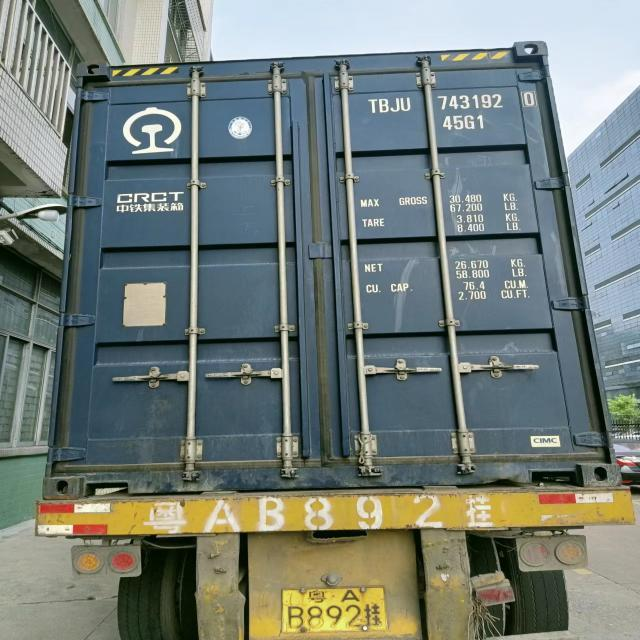ISO: (442, 114, 486, 134)
container_number: (368, 88, 538, 112)
